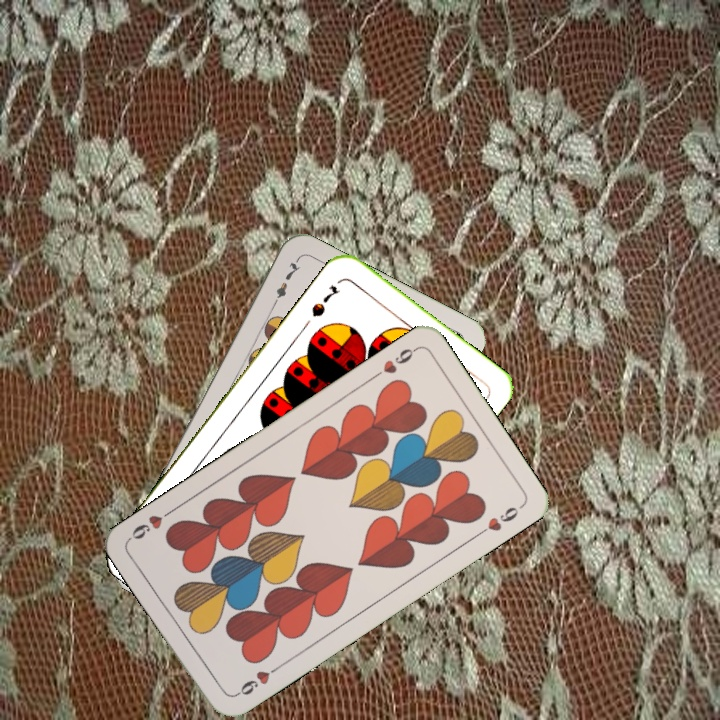E7: (268, 256, 303, 311)
H9: (368, 343, 420, 382), (230, 661, 283, 699)
S7: (307, 281, 344, 320)
